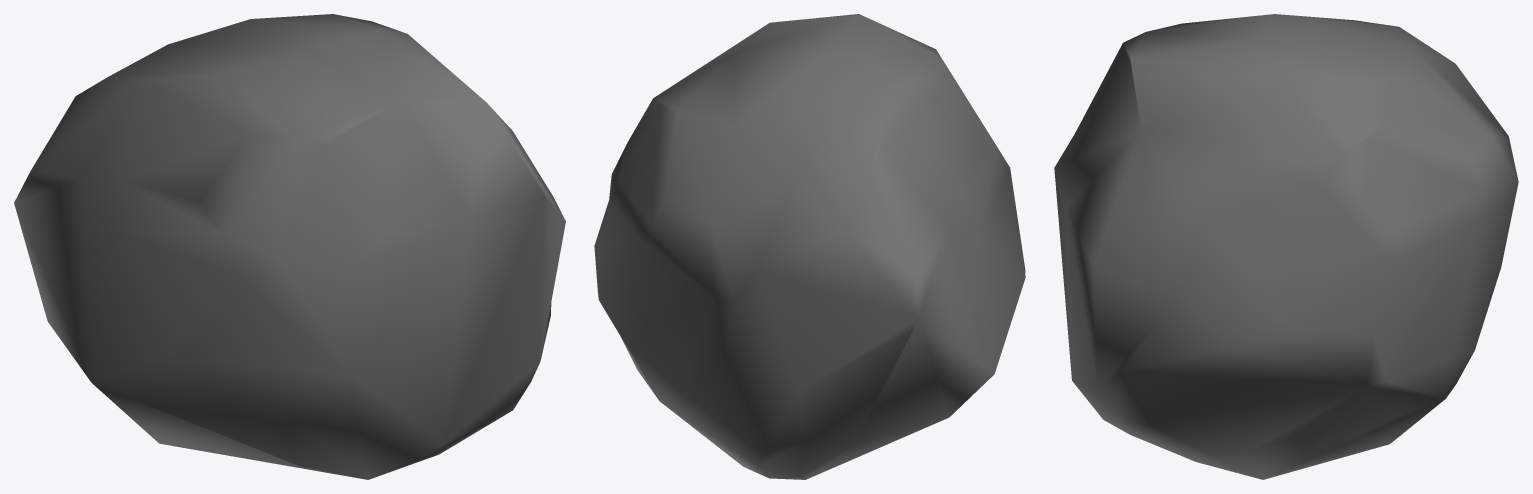
File: Rock_1.fbx
3 renders of one model, left to right at view 1: azimuth 30°, elevation 25°; view 2: azimuth 150°, elevation 25°; view 3: azimuth 270°, elevation 25°, orthographic. The views are drawn at different scales.
Parts seen in each view (by area): view 1: Rock_1; view 2: Rock_1; view 3: Rock_1.
Boxes of the visible parts, x1,y1,x2,y2 form: Rock_1: (14,14,565,479); Rock_1: (594,14,1025,479); Rock_1: (1054,14,1518,479).
Size of the model in its own units: 34.79 by 32.73 by 34.34.
1 material, 1 textured.
